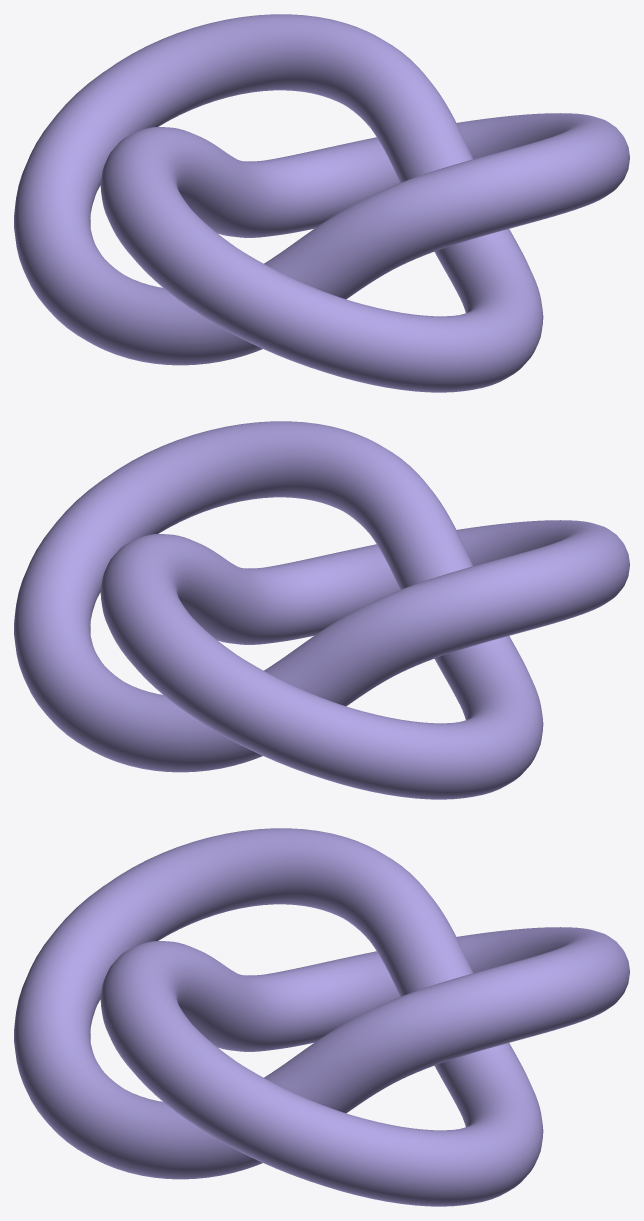
Rendered from knot.glb.
3 views of the same model, one above another, from view 1: azimuth 30°, elevation 25°; view 2: azimuth 150°, elevation 25°; view 3: azimuth 270°, elevation 25° (orthographic).
Visible parts, largest first — view 1: Knot; view 2: Knot; view 3: Knot.
Boxes of the visible parts, bbox=[...] form: Knot: bbox=[14, 14, 629, 392]; Knot: bbox=[14, 421, 629, 799]; Knot: bbox=[14, 828, 629, 1206].
Size of the model in its own units: 4.49 by 1.68 by 4.67.
